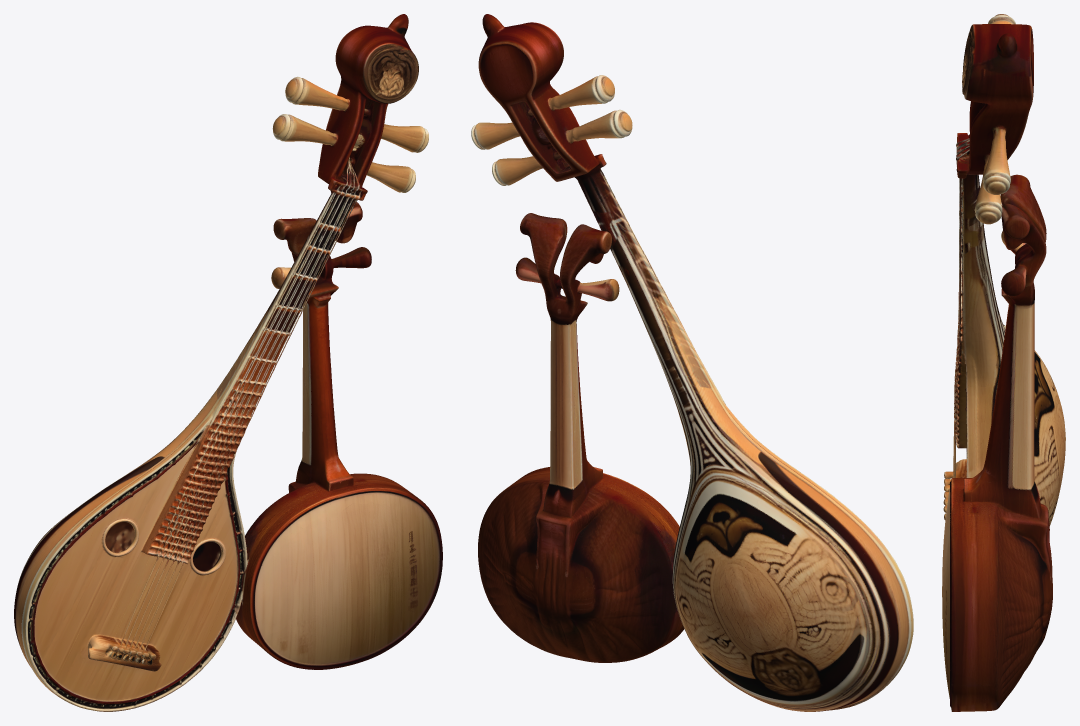
The model's file is moxing.glb.
3 views of the same model, side by side, from view 1: azimuth 30°, elevation 25°; view 2: azimuth 150°, elevation 25°; view 3: azimuth 270°, elevation 25° (orthographic). The views are drawn at different scales.
Visible parts, largest first — view 1: mesh_node; view 2: mesh_node; view 3: mesh_node.
Boxes of the visible parts, box(x1,y1,x2,y2) form: mesh_node: box(14, 14, 442, 711); mesh_node: box(471, 14, 913, 711); mesh_node: box(942, 14, 1065, 711).
Size of the model in its own units: 1.34 by 1.9 by 0.3015.
1 material, 1 textured.
